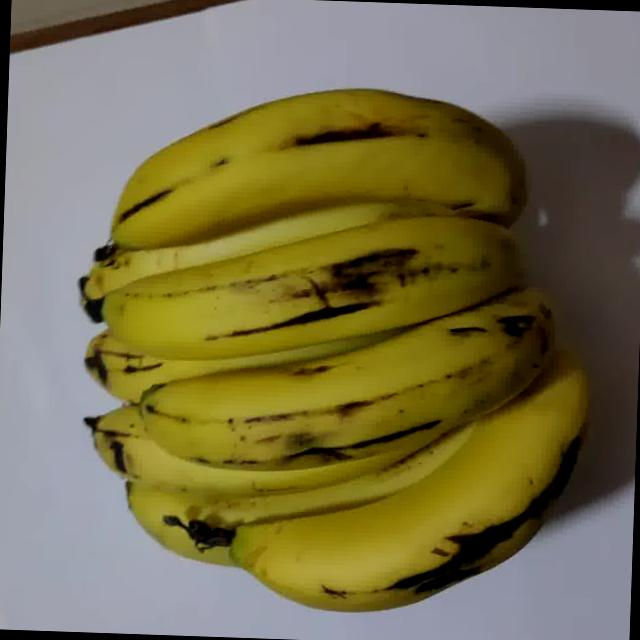banana_pacche: (20, 25, 640, 640)
